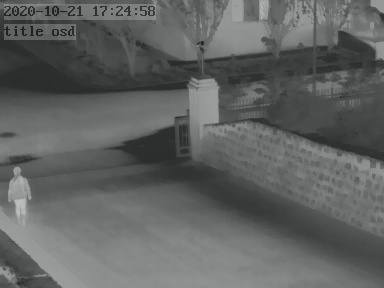person: (6, 165, 31, 223)
